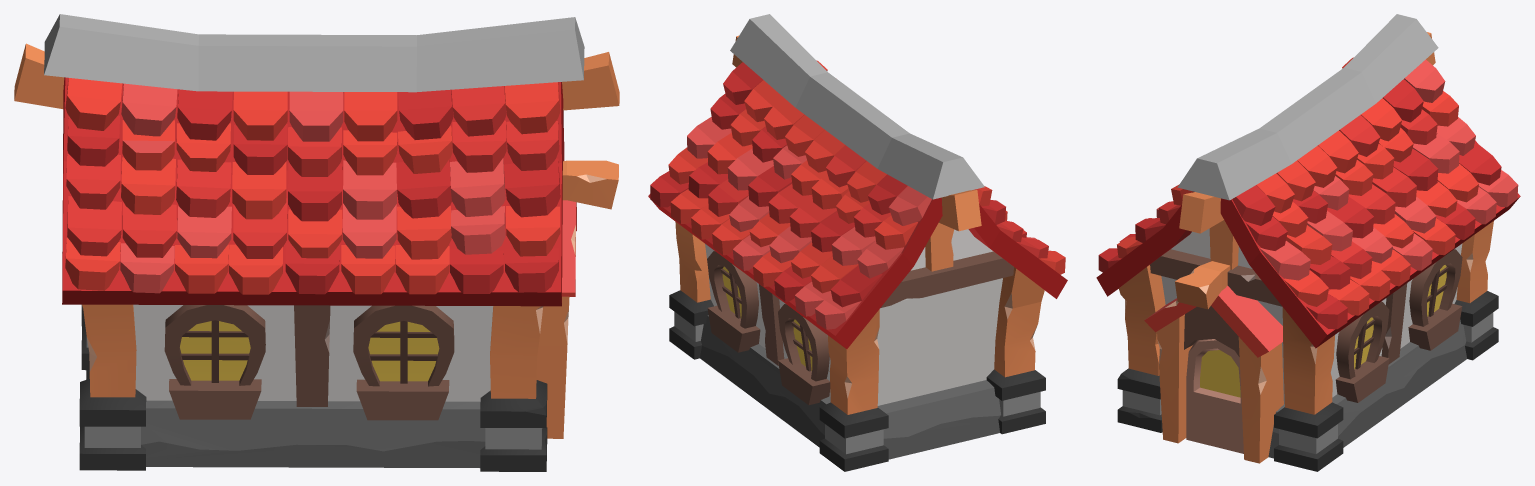
Rendered from n4_house_003_lev4.006.glb.
3 renders of one model, left to right at view 1: azimuth 30°, elevation 25°; view 2: azimuth 150°, elevation 25°; view 3: azimuth 270°, elevation 25°, orthographic. The views are drawn at different scales.
Visible parts, largest first — view 1: n4_house_003_lev4.006; view 2: n4_house_003_lev4.006; view 3: n4_house_003_lev4.006.
Part boxes in pixels (x1,y1,x2,y2): n4_house_003_lev4.006: (14, 14, 619, 471); n4_house_003_lev4.006: (648, 14, 1067, 471); n4_house_003_lev4.006: (1096, 14, 1520, 471).
Size of the model in its own units: 8.44 by 5.91 by 7.71.
1 material, 1 textured.
